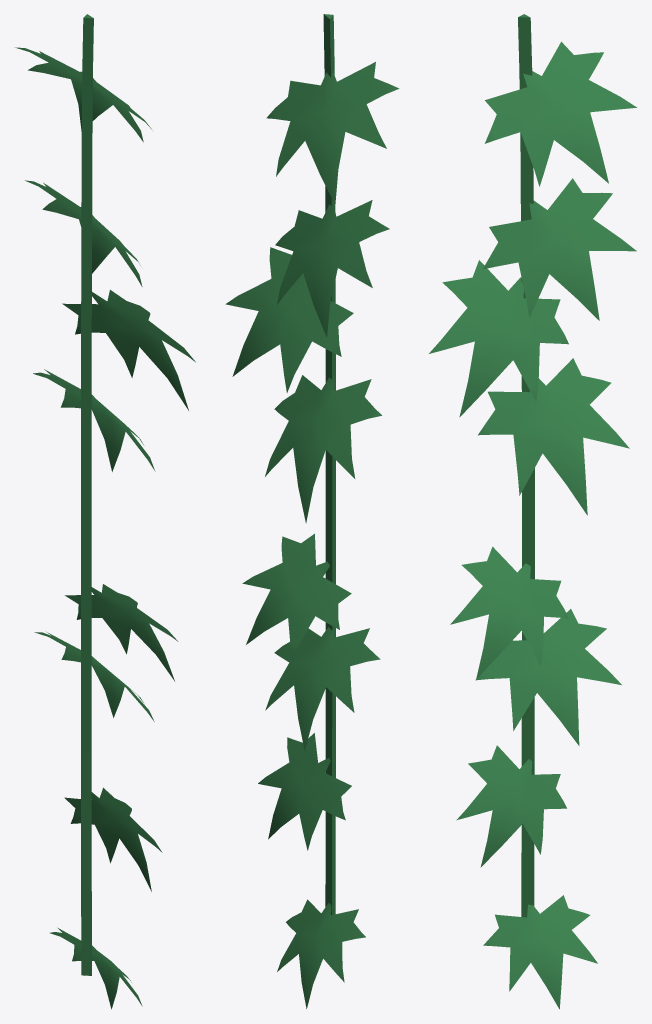
The model's file is vine_H_alangium.fbx.
The picture shows the model from 3 angles, left to right: view 1: azimuth 30°, elevation 25°; view 2: azimuth 210°, elevation 25°; view 3: azimuth 270°, elevation 25°; orthographic projection. The views are drawn at different scales.
Visible parts, largest first — view 1: vine_H_alangium_root, vine_H_alangium_A_leaf_B5, vine_H_alangium_A_leaf_B7, vine_H_alangium_A_leaf_B6, vine_H_alangium_A_leaf_B, vine_H_alangium_A_leaf_B2, vine_H_alangium_A_leaf_B1, vine_H_alangium_A_leaf_B3, vine_H_alangium_A_leaf_B4; view 2: vine_H_alangium_A_leaf_B, vine_H_alangium_A_leaf_B2, vine_H_alangium_A_leaf_B5, vine_H_alangium_A_leaf_B1, vine_H_alangium_A_leaf_B6, vine_H_alangium_A_leaf_B3, vine_H_alangium_A_leaf_B7, vine_H_alangium_root, vine_H_alangium_A_leaf_B4; view 3: vine_H_alangium_A_leaf_B, vine_H_alangium_A_leaf_B2, vine_H_alangium_A_leaf_B1, vine_H_alangium_A_leaf_B5, vine_H_alangium_A_leaf_B3, vine_H_alangium_A_leaf_B6, vine_H_alangium_A_leaf_B7, vine_H_alangium_A_leaf_B4, vine_H_alangium_root.
Boxes of the visible parts, left/top/right/bottom form: vine_H_alangium_root: left=81, top=14, right=93, bottom=975; vine_H_alangium_A_leaf_B5: left=62, top=290, right=195, bottom=410; vine_H_alangium_A_leaf_B7: left=64, top=787, right=162, bottom=891; vine_H_alangium_A_leaf_B6: left=65, top=584, right=178, bottom=681; vine_H_alangium_A_leaf_B: left=14, top=47, right=153, bottom=142; vine_H_alangium_A_leaf_B2: left=33, top=369, right=155, bottom=471; vine_H_alangium_A_leaf_B1: left=25, top=180, right=142, bottom=286; vine_H_alangium_A_leaf_B3: left=34, top=632, right=154, bottom=721; vine_H_alangium_A_leaf_B4: left=50, top=927, right=142, bottom=1009; vine_H_alangium_A_leaf_B: left=266, top=62, right=399, bottom=204; vine_H_alangium_A_leaf_B2: left=265, top=374, right=381, bottom=523; vine_H_alangium_A_leaf_B5: left=225, top=247, right=353, bottom=392; vine_H_alangium_A_leaf_B1: left=275, top=200, right=389, bottom=337; vine_H_alangium_A_leaf_B6: left=242, top=533, right=351, bottom=658; vine_H_alangium_A_leaf_B3: left=265, top=626, right=380, bottom=750; vine_H_alangium_A_leaf_B7: left=258, top=733, right=351, bottom=850; vine_H_alangium_root: left=323, top=14, right=335, bottom=915; vine_H_alangium_A_leaf_B4: left=277, top=899, right=365, bottom=1008; vine_H_alangium_A_leaf_B: left=484, top=41, right=636, bottom=186; vine_H_alangium_A_leaf_B2: left=478, top=358, right=629, bottom=515; vine_H_alangium_A_leaf_B1: left=483, top=178, right=636, bottom=320; vine_H_alangium_A_leaf_B5: left=429, top=260, right=568, bottom=417; vine_H_alangium_A_leaf_B3: left=475, top=609, right=621, bottom=745; vine_H_alangium_A_leaf_B6: left=450, top=546, right=568, bottom=678; vine_H_alangium_A_leaf_B7: left=456, top=745, right=566, bottom=867; vine_H_alangium_A_leaf_B4: left=483, top=895, right=597, bottom=1009; vine_H_alangium_root: left=518, top=14, right=534, bottom=917.
Bounding box in the file's own units: 18.97 × 185 × 36.04.
